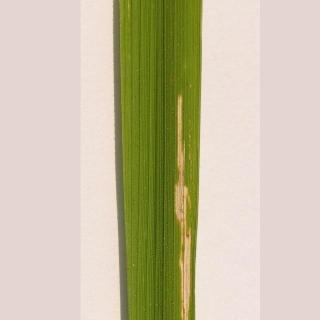Hawar-Daun: (156, 69, 214, 320)
